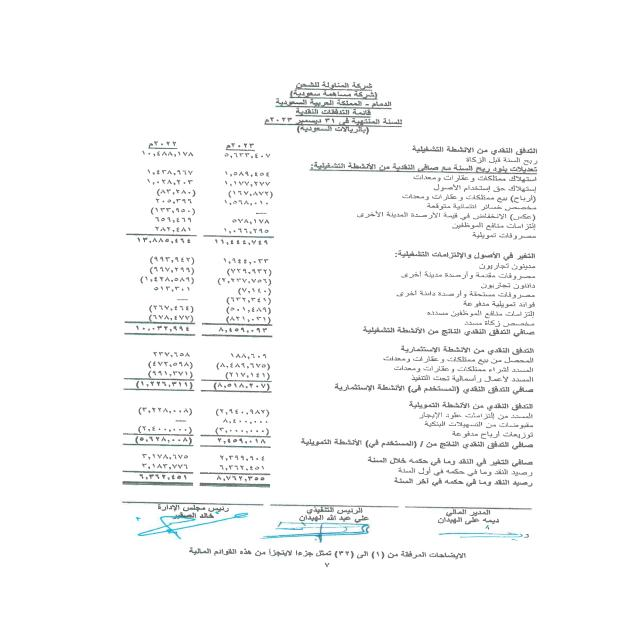financial_sheets: (292, 108, 376, 120)
table: (79, 138, 288, 500)
